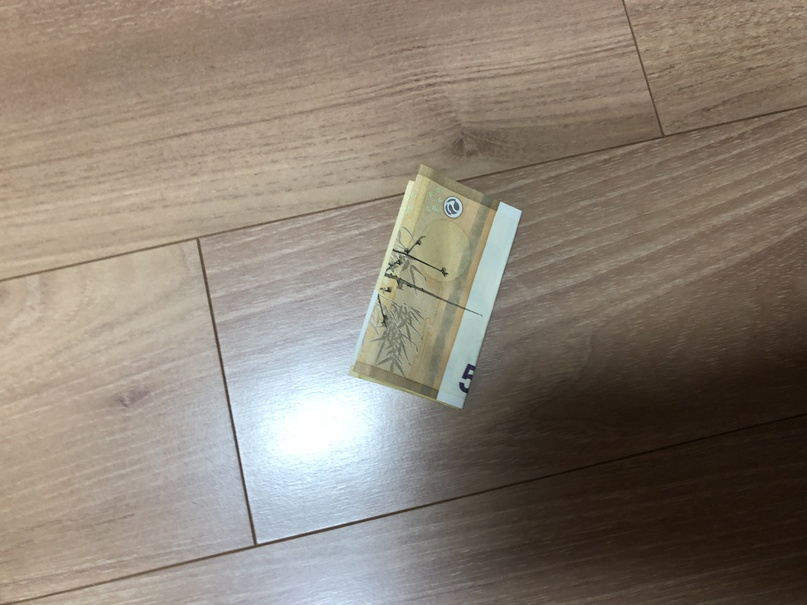50000won: (347, 164, 523, 411)
